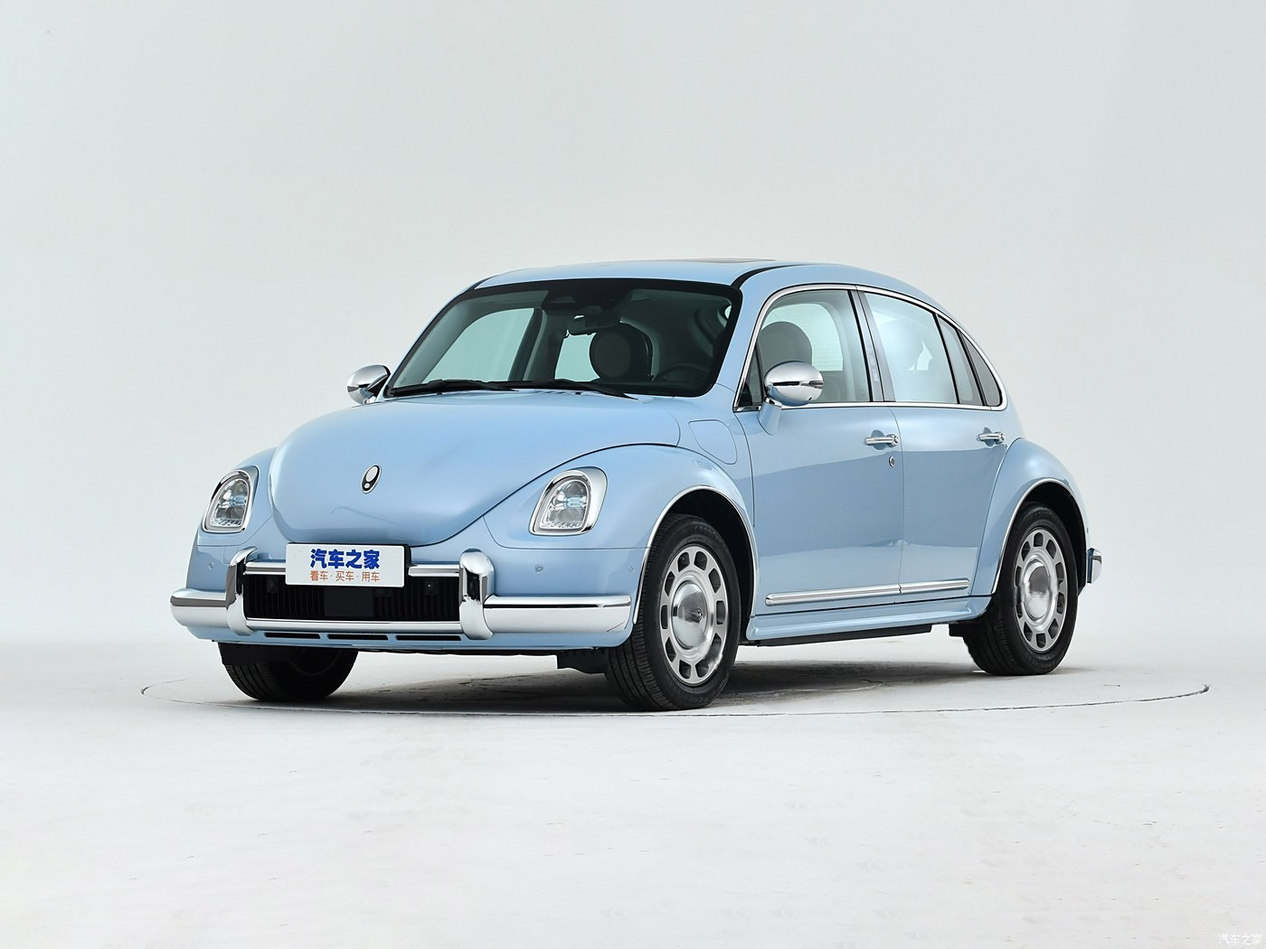ORA: (361, 465, 381, 493)
